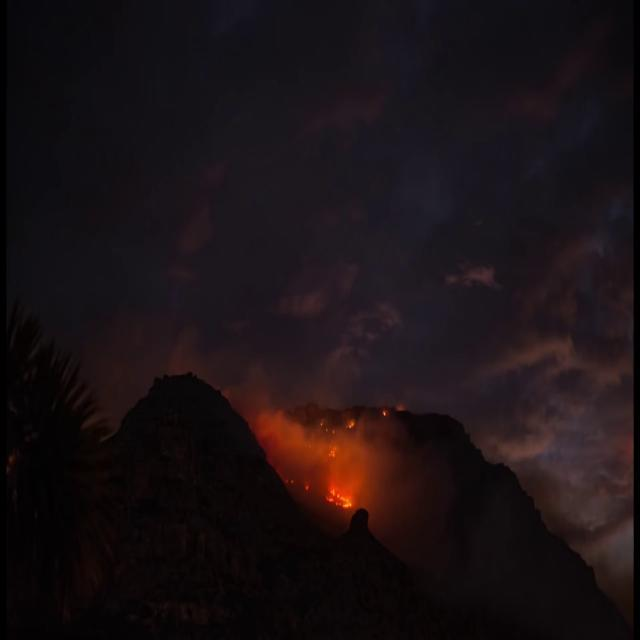Fire: (326, 484, 354, 508), (327, 443, 337, 457), (348, 420, 356, 430), (383, 408, 386, 416)
